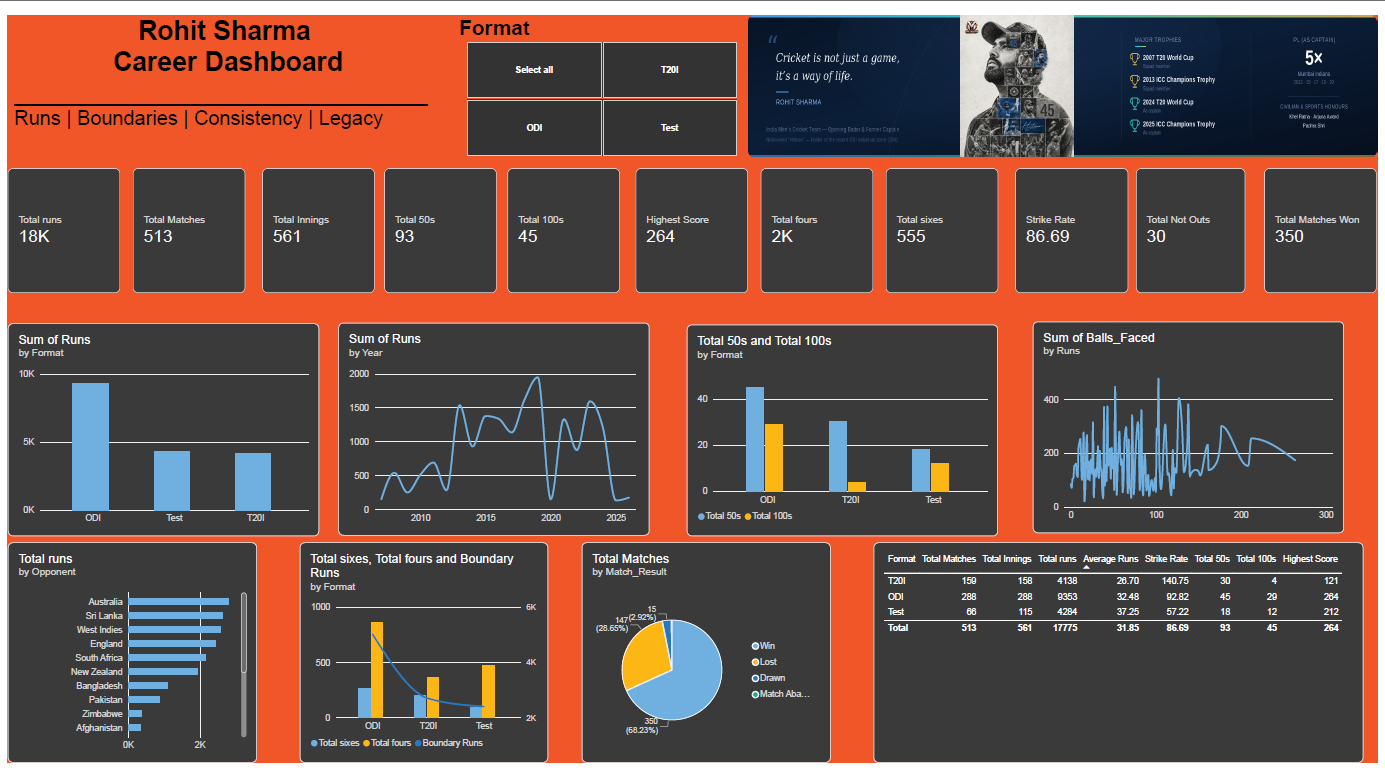

The dashboard page shown, as its layout file describes it:
{"tool":"powerbi","page":{"name":"Page 1","canvas":[2200,1200],"ordinal":0},"visuals":[{"type":"textbox","box":[9.9,0,686.9,225.7],"z":0},{"type":"slicer","fields":{"Values":["Batting_Data.Format"]},"box":[716.6,0,473.6,225.7],"z":2},{"type":"cardVisual","fields":{"Data":["Batting_Data.Total runs"]},"box":[0,245.3,180,200],"z":4},{"type":"cardVisual","fields":{"Data":["Batting_Data.Total Matches"]},"box":[200.9,245.5,180,200],"z":5},{"type":"cardVisual","fields":{"Data":["Batting_Data.Total Innings"]},"box":[409.2,245.5,180,200],"z":6},{"type":"cardVisual","fields":{"Data":["Batting_Data.Total 50s"]},"box":[605.1,245.5,180,200],"z":7},{"type":"cardVisual","fields":{"Data":["Batting_Data.Total 100s"]},"box":[803.4,245.5,180,200],"z":8},{"type":"cardVisual","fields":{"Data":["Batting_Data.Highest Score"]},"box":[1009.3,245.5,180,200],"z":9},{"type":"cardVisual","fields":{"Data":["Batting_Data.Total fours"]},"box":[1210.1,245.5,180,200],"z":10},{"type":"cardVisual","fields":{"Data":["Batting_Data.Total sixes"]},"box":[1411,245.5,180,200],"z":11},{"type":"cardVisual","fields":{"Data":["Batting_Data.Strike Rate"]},"box":[1619.3,245.5,181,200],"z":12},{"type":"cardVisual","fields":{"Data":["Batting_Data.Total Not Outs"]},"box":[1812.7,245.5,175,200],"z":13},{"type":"cardVisual","fields":{"Data":["Batting_Data.Total Matches Won"]},"box":[2018.5,245.5,180,200],"z":14},{"type":"columnChart","fields":{"Category":["Batting_Data.Format"],"Y":["Sum(Batting_Data.Runs)"]},"box":[0,493.9,500,341.7],"z":15},{"type":"lineChart","fields":{"Category":["Batting_Data.Date.Variation.Date Hierarchy.Year"],"Y":["Sum(Batting_Data.Runs)"]},"box":[530.7,493.5,500,341.7],"z":16},{"type":"clusteredColumnChart","fields":{"Category":["Batting_Data.Format"],"Y":["Batting_Data.Total 50s","Batting_Data.Total 100s"]},"box":[1091.1,495.9,500,340],"z":17},{"type":"lineChart","fields":{"Category":["Batting_Data.Runs"],"Y":["Sum(Batting_Data.Balls_Faced)"]},"box":[1646.6,491,500,339.7],"z":18},{"type":"pieChart","fields":{"Category":["Batting_Data.Match_Result"],"Y":["Batting_Data.Total Matches"]},"box":[922.5,845.6,399.2,354.6],"z":19},{"type":"barChart","fields":{"Category":["Batting_Data.Opponent"],"Y":["Batting_Data.Total runs"]},"box":[0,845.6,400,354.6],"z":20},{"type":"lineClusteredColumnComboChart","fields":{"Category":["Batting_Data.Format"],"Y":["Batting_Data.Total sixes","Batting_Data.Total fours"],"Y2":["Batting_Data.Boundary Runs"]},"box":[468.7,845.6,399.2,354.6],"z":21},{"type":"tableEx","fields":{"Values":["Batting_Data.Format","Batting_Data.Total Matches","Batting_Data.Total Innings","Batting_Data.Total runs","Batting_Data.Average Runs","Batting_Data.Strike Rate","Batting_Data.Total 50s","Batting_Data.Total 100s","Batting_Data.Highest Score"]},"box":[1391.1,845.6,756.3,354.6],"z":22},{"type":"image","box":[1190.3,0,1009.3,225.7],"z":23},{"type":"image","box":[1500.2,0,243,225.7],"z":24}]}

Visuals, with their boxes in screenshot pixels (x1, y1, x2, y2), scaled from the page's 2200x1200 canvas onto the 1385x773 screenshot:
textbox: 6/0/439/145
slicer - Batting_Data.Format: 451/0/749/145
cardVisual - Batting_Data.Total runs: 0/158/113/287
cardVisual - Batting_Data.Total Matches: 126/158/240/287
cardVisual - Batting_Data.Total Innings: 258/158/371/287
cardVisual - Batting_Data.Total 50s: 381/158/494/287
cardVisual - Batting_Data.Total 100s: 506/158/619/287
cardVisual - Batting_Data.Highest Score: 635/158/749/287
cardVisual - Batting_Data.Total fours: 762/158/875/287
cardVisual - Batting_Data.Total sixes: 888/158/1002/287
cardVisual - Batting_Data.Strike Rate: 1019/158/1133/287
cardVisual - Batting_Data.Total Not Outs: 1141/158/1251/287
cardVisual - Batting_Data.Total Matches Won: 1271/158/1384/287
columnChart - Batting_Data.Format x Sum(Batting_Data.Runs): 0/318/315/538
lineChart - Batting_Data.Date.Variation.Date Hierarchy.Year x Sum(Batting_Data.Runs): 334/318/649/538
clusteredColumnChart - Batting_Data.Format x Batting_Data.Total 50s: 687/319/1002/538
lineChart - Batting_Data.Runs x Sum(Batting_Data.Balls_Faced): 1037/316/1351/535
pieChart - Batting_Data.Match_Result x Batting_Data.Total Matches: 581/545/832/772
barChart - Batting_Data.Opponent x Batting_Data.Total runs: 0/545/252/772
lineClusteredColumnComboChart - Batting_Data.Format x Batting_Data.Total sixes: 295/545/546/772
tableEx - Batting_Data.Format x Batting_Data.Total Matches: 876/545/1352/772
image: 749/0/1384/145
image: 944/0/1097/145
